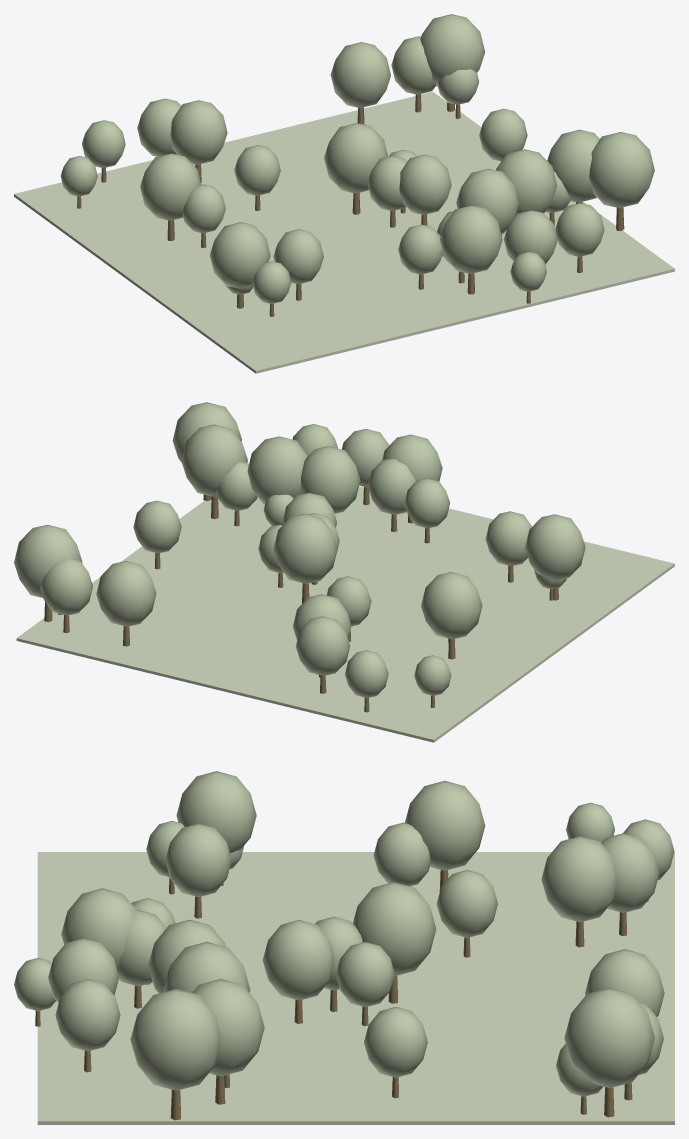
The picture shows the model from 3 angles, top to bottom: view 1: azimuth 30°, elevation 25°; view 2: azimuth 150°, elevation 25°; view 3: azimuth 270°, elevation 25°; orthographic projection. The views are drawn at different scales.
Visible parts, largest first — view 1: terrain, lod-near-16, lod-near-5, lod-near-14, lod-near-20, lod-near-23, lod-near-24, lod-near-2, lod-near-15, lod-near-22, lod-near-12, lod-near-30 (+16 smaller); view 2: terrain, lod-near-14, lod-near-2, lod-near-30, lod-near-24, lod-near-23, lod-near-22, lod-near-21, lod-near-20, lod-near-28, lod-near-3, lod-near-19 (+15 smaller); view 3: terrain, lod-near-16, lod-near-20, lod-near-14, lod-near-15, lod-near-2, lod-near-12, lod-near-24, lod-near-30, lod-near-18, lod-near-6, lod-near-5 (+18 smaller).
Boxes of the visible parts, bbox=[...] form: terrain: bbox=[14, 92, 674, 373]; lod-near-16: bbox=[589, 132, 654, 207]; lod-near-5: bbox=[440, 205, 502, 273]; lod-near-14: bbox=[324, 123, 388, 193]; lod-near-20: bbox=[420, 14, 484, 86]; lod-near-23: bbox=[330, 42, 390, 107]; lod-near-24: bbox=[210, 222, 270, 288]; lod-near-2: bbox=[140, 153, 200, 220]; lod-near-15: bbox=[170, 100, 227, 164]; lod-near-22: bbox=[496, 149, 556, 215]; lod-near-12: bbox=[399, 154, 451, 214]; lod-near-30: bbox=[547, 129, 599, 202]; terrain: bbox=[16, 486, 674, 742]; lod-near-14: bbox=[273, 513, 337, 583]; lod-near-2: bbox=[421, 572, 482, 639]; lod-near-30: bbox=[181, 424, 247, 497]; lod-near-24: bbox=[525, 514, 585, 580]; lod-near-23: bbox=[96, 561, 156, 626]; lod-near-22: bbox=[247, 436, 307, 504]; lod-near-21: bbox=[300, 446, 360, 513]; lod-near-20: bbox=[14, 525, 82, 597]; lod-near-28: bbox=[295, 616, 349, 675]; lod-near-3: bbox=[40, 558, 92, 615]; lod-near-19: bbox=[133, 500, 181, 553]; terrain: bbox=[37, 852, 674, 1124]; lod-near-16: bbox=[130, 989, 220, 1090]; lod-near-20: bbox=[564, 988, 654, 1088]; lod-near-14: bbox=[353, 882, 436, 975]; lod-near-15: bbox=[541, 836, 616, 922]; lod-near-2: bbox=[405, 780, 485, 870]; lod-near-12: bbox=[262, 920, 334, 1000]; lod-near-24: bbox=[176, 771, 256, 853]; lod-near-30: bbox=[192, 979, 264, 1076]; lod-near-18: bbox=[165, 823, 231, 897]; lod-near-6: bbox=[55, 979, 120, 1051]; lod-near-5: bbox=[61, 888, 137, 970].
Size of the model in its own units: 34.14 by 7.29 by 33.19.
